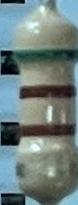Black: (17, 85, 76, 99)
Brown: (20, 122, 76, 136)
Green: (13, 48, 78, 66)
Side-Silver: (16, 159, 77, 180)
